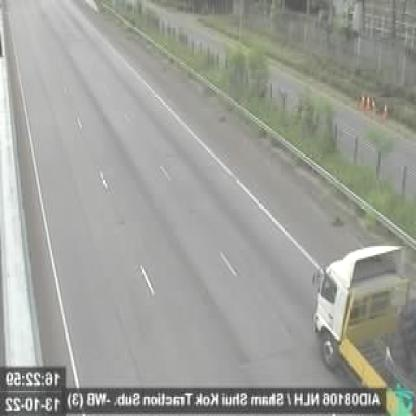Truck: (314, 236, 414, 413)
